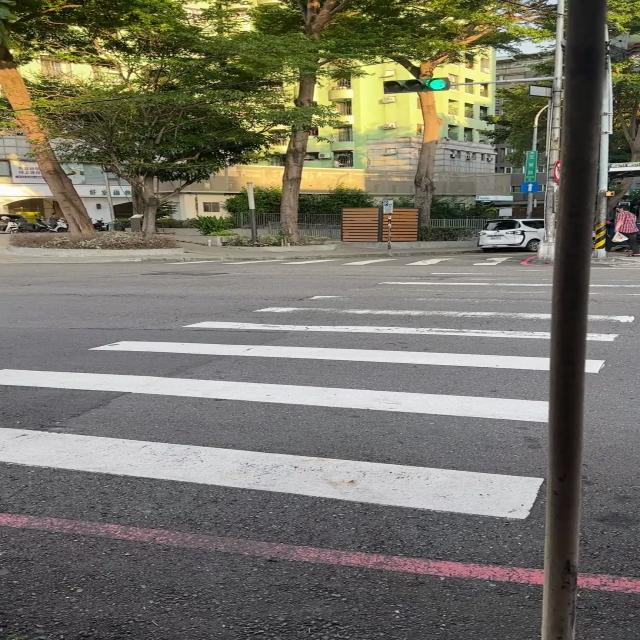car: (476, 219, 545, 251)
crosswalk: (0, 266, 552, 521), (586, 278, 640, 376), (151, 256, 516, 265)
